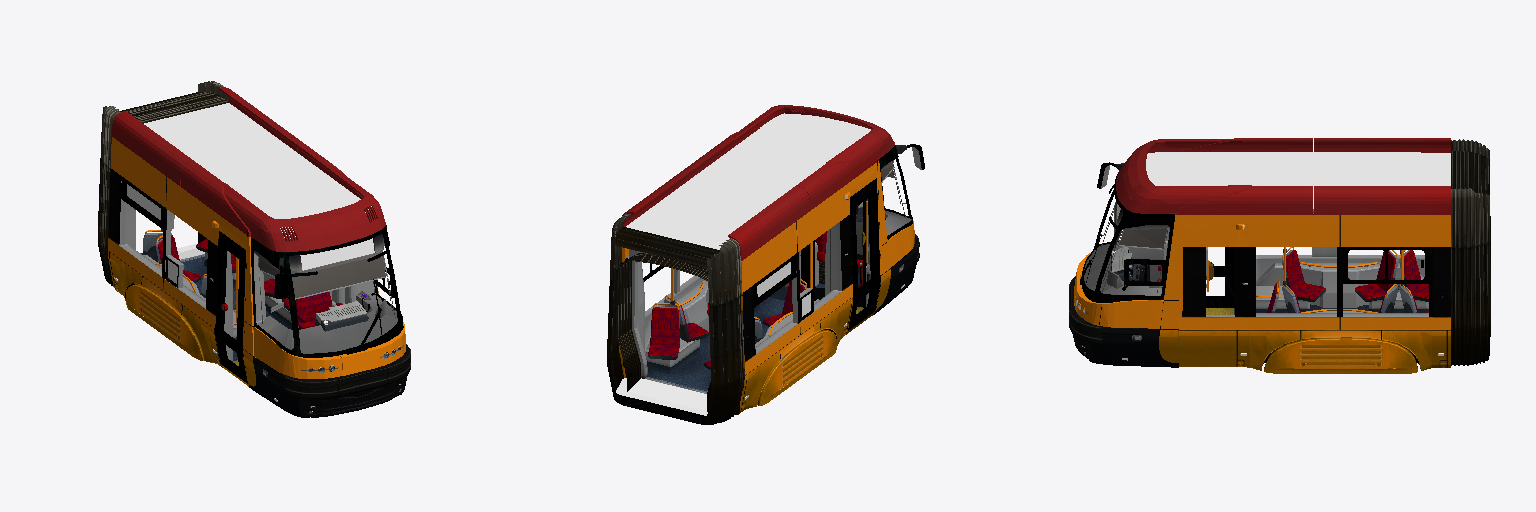
3 views of the same model, side by side, from view 1: azimuth 30°, elevation 25°; view 2: azimuth 150°, elevation 25°; view 3: azimuth 270°, elevation 25° (orthographic).
Visible parts, largest first — view 1: EXT, INT, D_RR; view 2: EXT, INT, D_RR; view 3: EXT, INT, DL_RR.
Part boxes in pixels (bbox=[...]): EXT: bbox=[98, 81, 410, 417]; INT: bbox=[119, 157, 402, 372]; D_RR: bbox=[215, 231, 247, 383]; EXT: bbox=[607, 105, 924, 424]; INT: bbox=[616, 158, 912, 415]; D_RR: bbox=[848, 178, 880, 330]; EXT: bbox=[1069, 138, 1490, 373]; INT: bbox=[1080, 184, 1428, 353]; DL_RR: bbox=[1206, 247, 1234, 306].
Bounding box in the file's own units: 2.73 × 3.57 × 7.25.
104 materials, 69 textured.